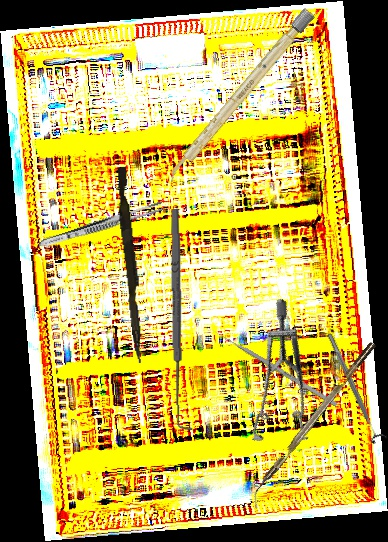Chopper: (243, 341, 384, 510)
Dressing Forceps: (37, 199, 165, 251)
Fixation Ring: (321, 330, 388, 446)
Hook Surgical: (168, 208, 193, 431)
Pusher: (211, 328, 338, 407), (112, 166, 150, 364)
Scalpel Handle: (163, 7, 316, 185)
Speculum: (204, 296, 365, 466)
